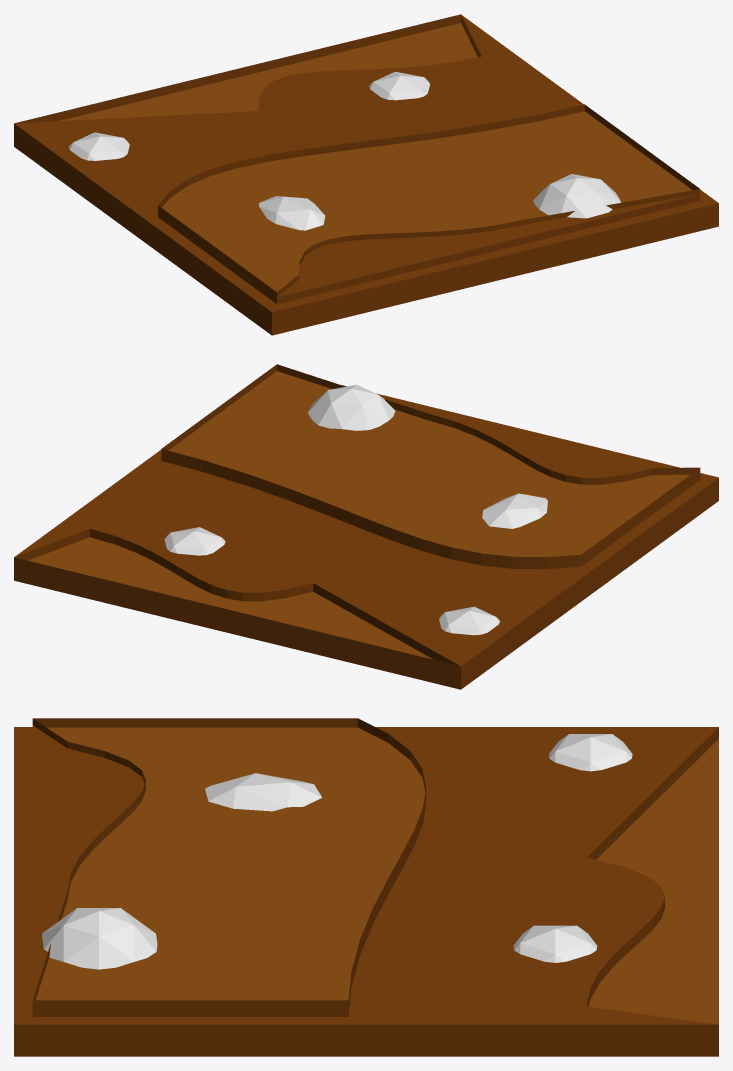
The model's file is brown_n.glb.
The picture shows the model from 3 angles, top to bottom: view 1: azimuth 30°, elevation 25°; view 2: azimuth 150°, elevation 25°; view 3: azimuth 270°, elevation 25°; orthographic projection. The views are drawn at different scales.
Visible parts, largest first — view 1: Icosphere.003; view 2: Icosphere.003; view 3: Icosphere.003.
Part boxes in pixels (x1,y1,x2,y2): Icosphere.003: [14, 14, 718, 335]; Icosphere.003: [14, 364, 718, 689]; Icosphere.003: [14, 718, 718, 1056].
Bounding box in the file's own units: 2 × 0.2253 × 2.
